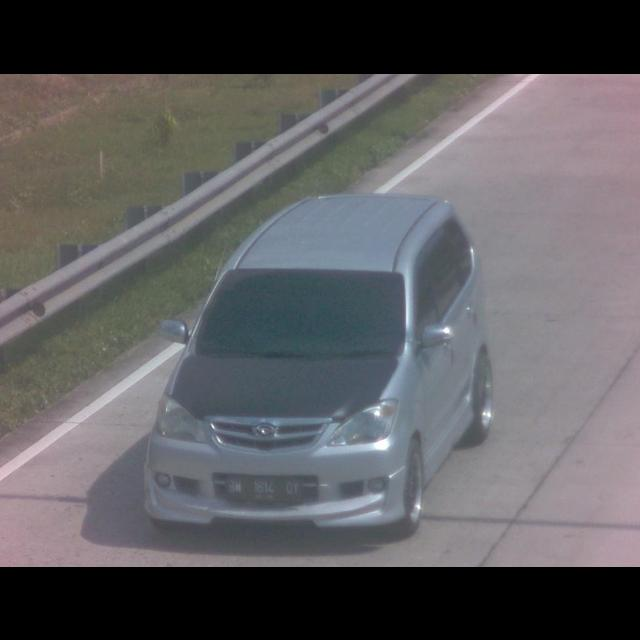plate: (225, 472, 305, 508)
